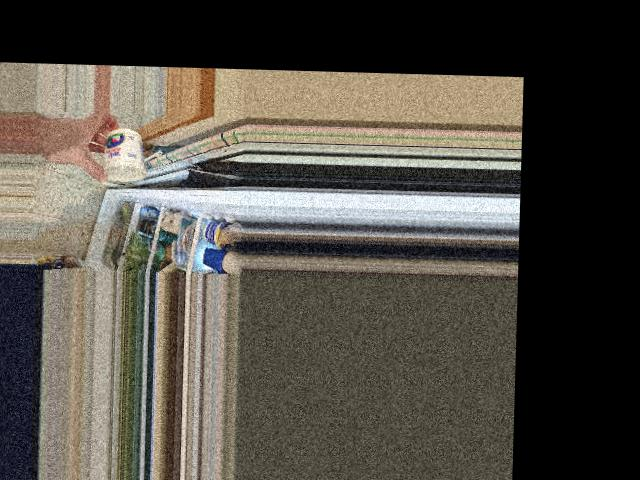cotage: (99, 127, 145, 179)
